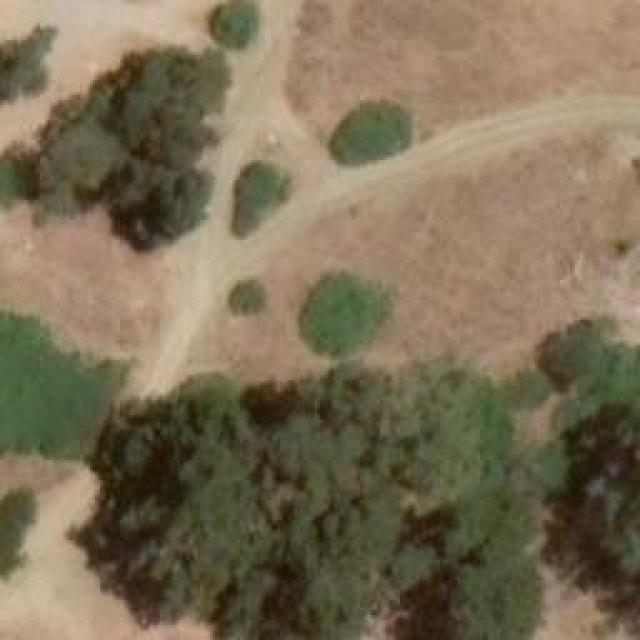Tree: (100, 370, 510, 640), (33, 48, 223, 251), (545, 408, 640, 623), (385, 555, 543, 640), (293, 270, 373, 363), (529, 305, 603, 392), (0, 23, 55, 108), (333, 103, 406, 166), (233, 168, 283, 233), (208, 0, 258, 45), (218, 275, 268, 315)
